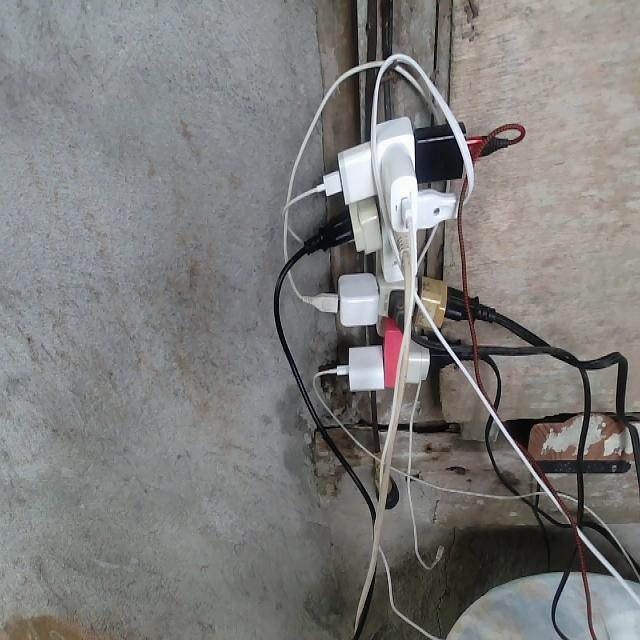-: (304, 110, 476, 394)
